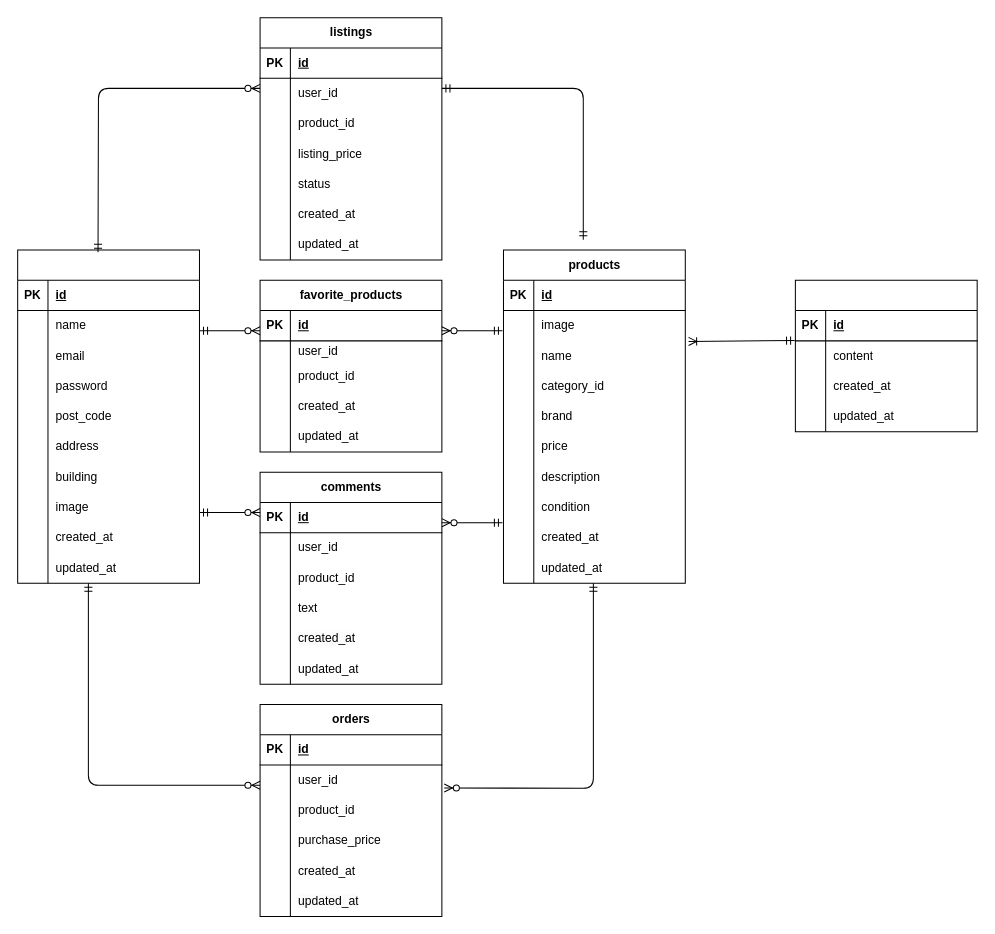
Image size: 995x934. Some labels were removed from this diagram. The shapes that lost their labels are listed below. From the top down, each one's box as (x1, y1, x2, y2) in pixels, then its label:
(794, 279, 977, 432): categories
(17, 249, 199, 583): users
